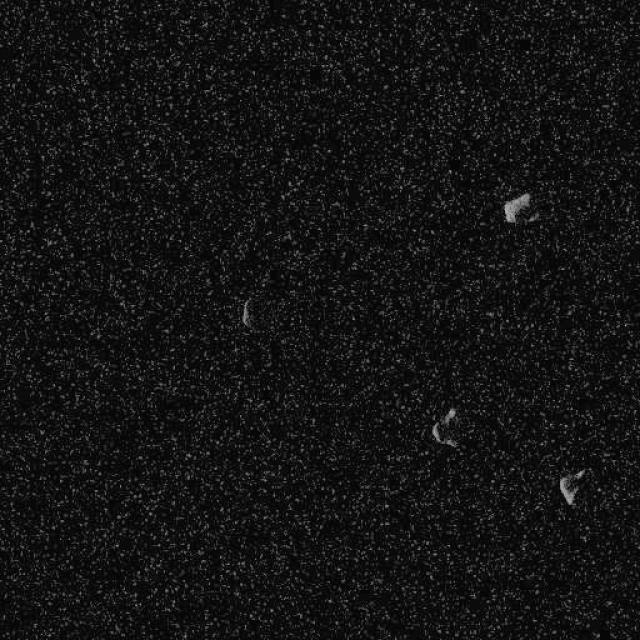D2: (430, 406, 460, 449), (558, 466, 590, 506), (501, 191, 531, 224), (240, 298, 252, 328)
